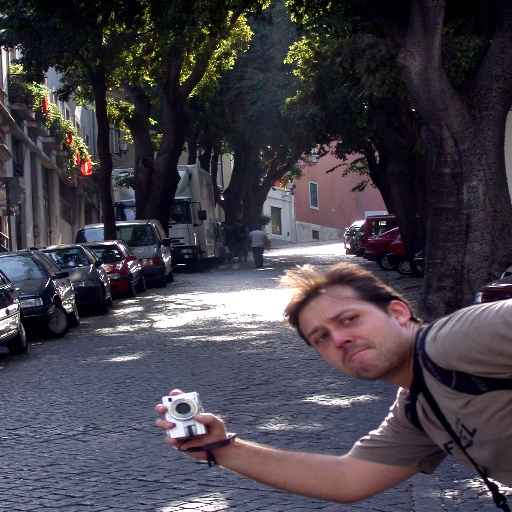hand: (179, 400, 231, 453)
